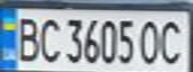0: (100, 16, 121, 65)
3: (60, 15, 84, 64)
5: (115, 16, 139, 65)
6: (81, 16, 103, 65)
B: (9, 12, 42, 63)
C: (157, 16, 190, 68), (36, 13, 63, 64)
O: (136, 17, 163, 66)
